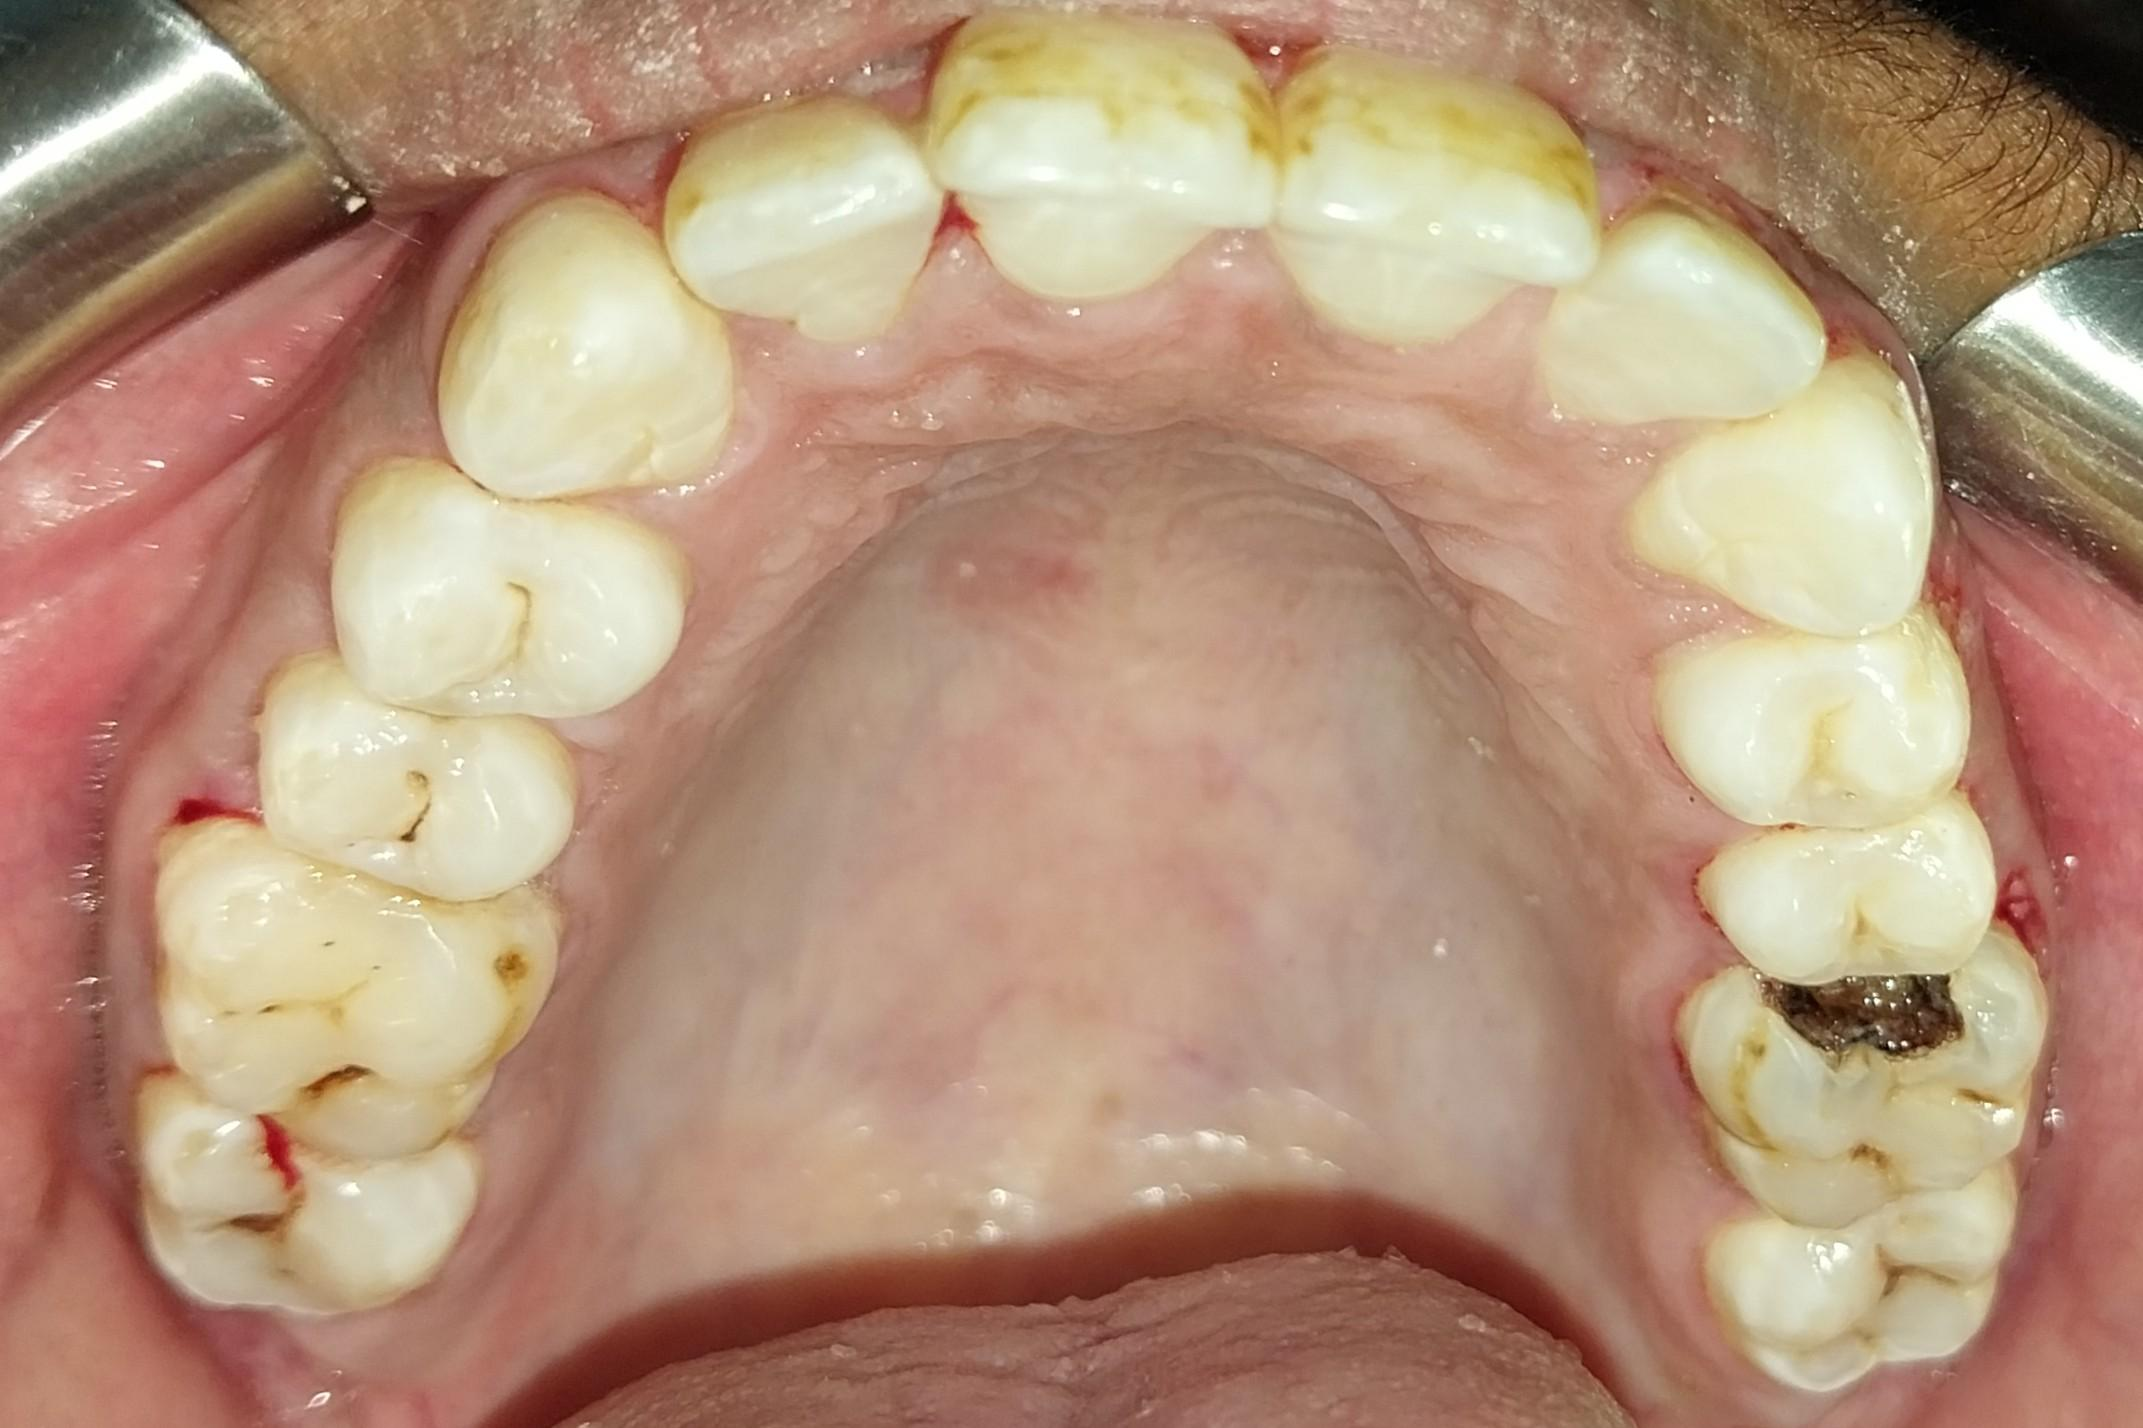D: (159, 836, 534, 1161), (1679, 937, 2051, 1215), (118, 1080, 471, 1319), (257, 651, 585, 907), (1710, 1188, 2024, 1391)
